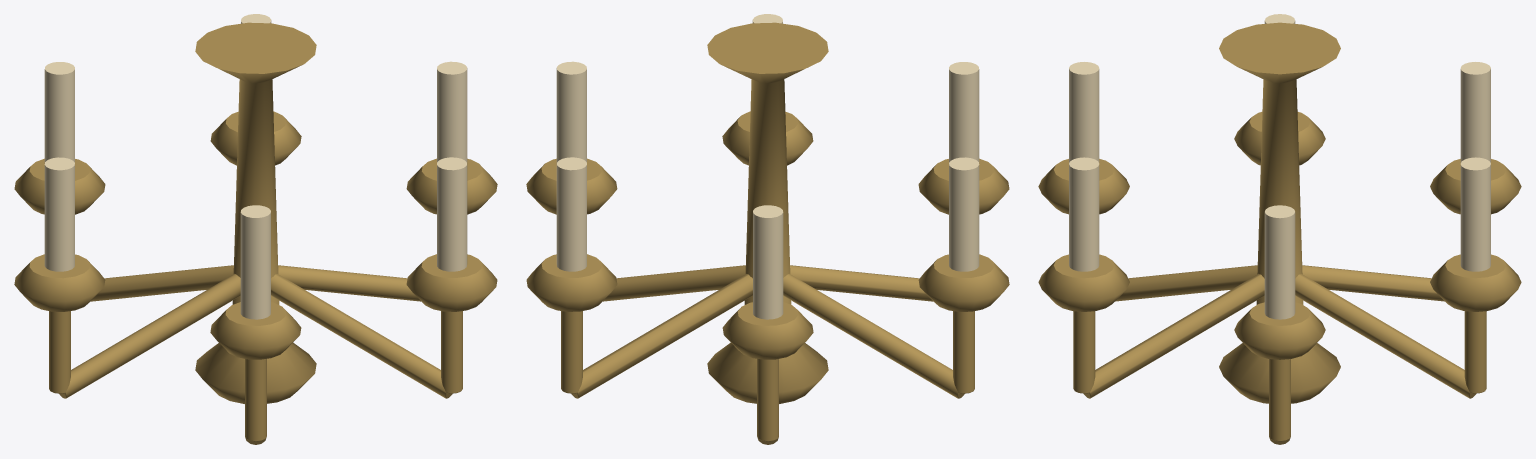
Rendered from rpg-mansion-chandelier-01.glb.
3 views of the same model, side by side, from view 1: azimuth 30°, elevation 25°; view 2: azimuth 150°, elevation 25°; view 3: azimuth 270°, elevation 25° (orthographic).
Parts seen in each view (by area): view 1: rpg-mansion-chandelier-01; view 2: rpg-mansion-chandelier-01; view 3: rpg-mansion-chandelier-01.
Boxes of the visible parts, x1,y1,x2,y2 form: rpg-mansion-chandelier-01: (14,14,497,444); rpg-mansion-chandelier-01: (526,14,1009,444); rpg-mansion-chandelier-01: (1038,14,1521,444).
Size of the model in its own units: 0.89 by 0.61 by 0.79.
